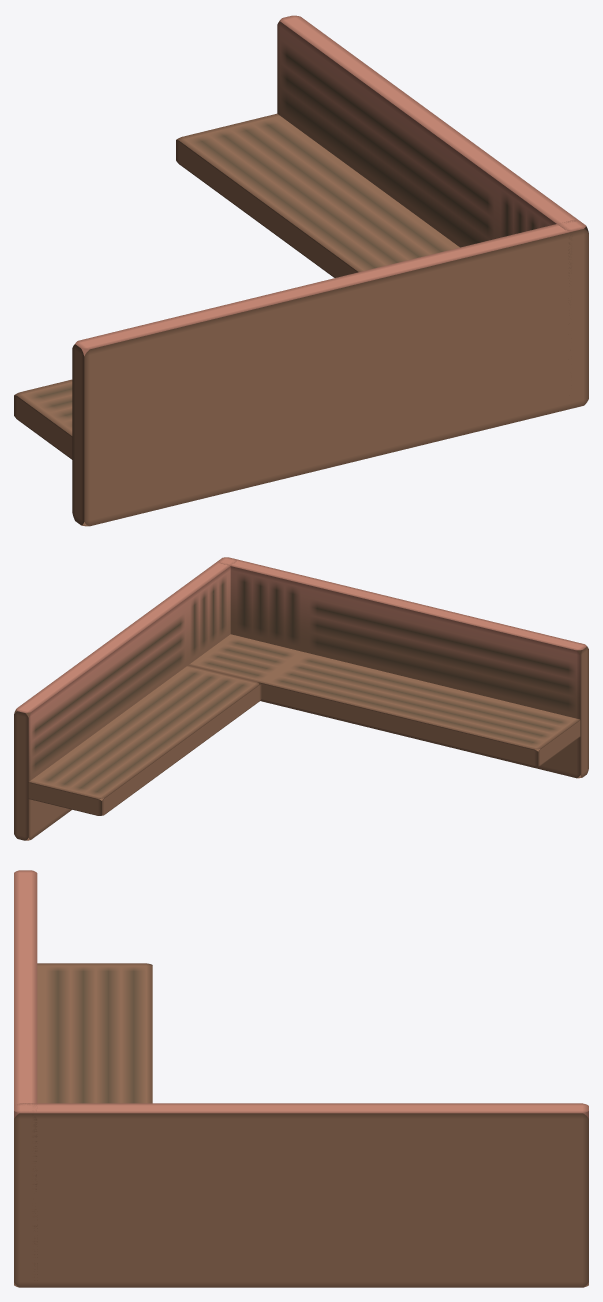
The model's file is Sauna Bench.fbx.
3 renders of one model, top to bottom at view 1: azimuth 30°, elevation 25°; view 2: azimuth 150°, elevation 25°; view 3: azimuth 270°, elevation 25°, orthographic. The views are drawn at different scales.
Visible parts, largest first — view 1: cube_3, cube_2, cube, cube_1; view 2: cube_3, cube_1, cube_2, cube; view 3: cube_2, cube_1, cube_3.
Part boxes in pixels (box(x1,y1,x2,y2)): cube_3: box(72, 220, 588, 526); cube_2: box(277, 15, 588, 405); cube: box(176, 113, 459, 277); cube_1: box(14, 379, 72, 459); cube_3: box(218, 557, 588, 778); cube_1: box(188, 634, 580, 766); cube_2: box(14, 557, 236, 840); cube: box(28, 665, 261, 815); cube_2: box(14, 1103, 588, 1287); cube_1: box(37, 963, 152, 1103); cube_3: box(14, 870, 37, 1287).
Bounding box in the file's own units: 70.01 × 23.45 × 70.01.
Materials: 1 (1 with a texture image).
